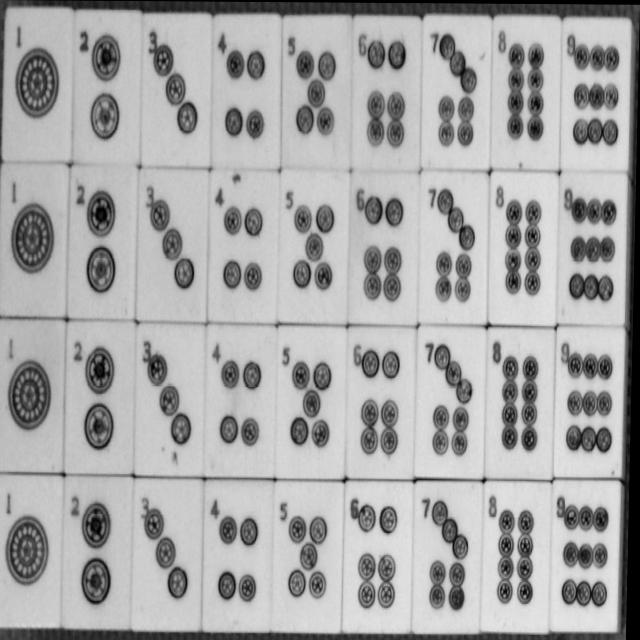1D: (2, 13, 70, 161), (0, 164, 66, 315), (0, 319, 63, 472), (0, 479, 61, 628)
2D: (67, 324, 139, 476), (70, 164, 140, 316), (64, 479, 135, 626), (75, 13, 144, 161)
3D: (136, 323, 207, 476), (139, 171, 211, 319), (143, 18, 215, 164), (134, 482, 206, 628)
4D: (212, 16, 283, 167), (209, 172, 279, 322), (204, 483, 274, 631), (207, 327, 276, 475)
5D: (281, 174, 353, 324), (283, 20, 356, 167), (278, 326, 350, 475), (275, 484, 347, 629)
6D: (347, 20, 420, 169), (346, 173, 417, 321), (343, 326, 413, 475), (340, 486, 410, 629)
7D: (418, 326, 489, 475), (421, 173, 491, 322), (414, 485, 485, 631), (424, 19, 493, 167)
8D: (487, 328, 557, 478), (490, 19, 559, 165), (484, 483, 551, 630), (492, 174, 553, 321)
9D: (551, 327, 622, 479), (558, 20, 629, 169), (554, 174, 625, 323), (554, 482, 619, 633)
